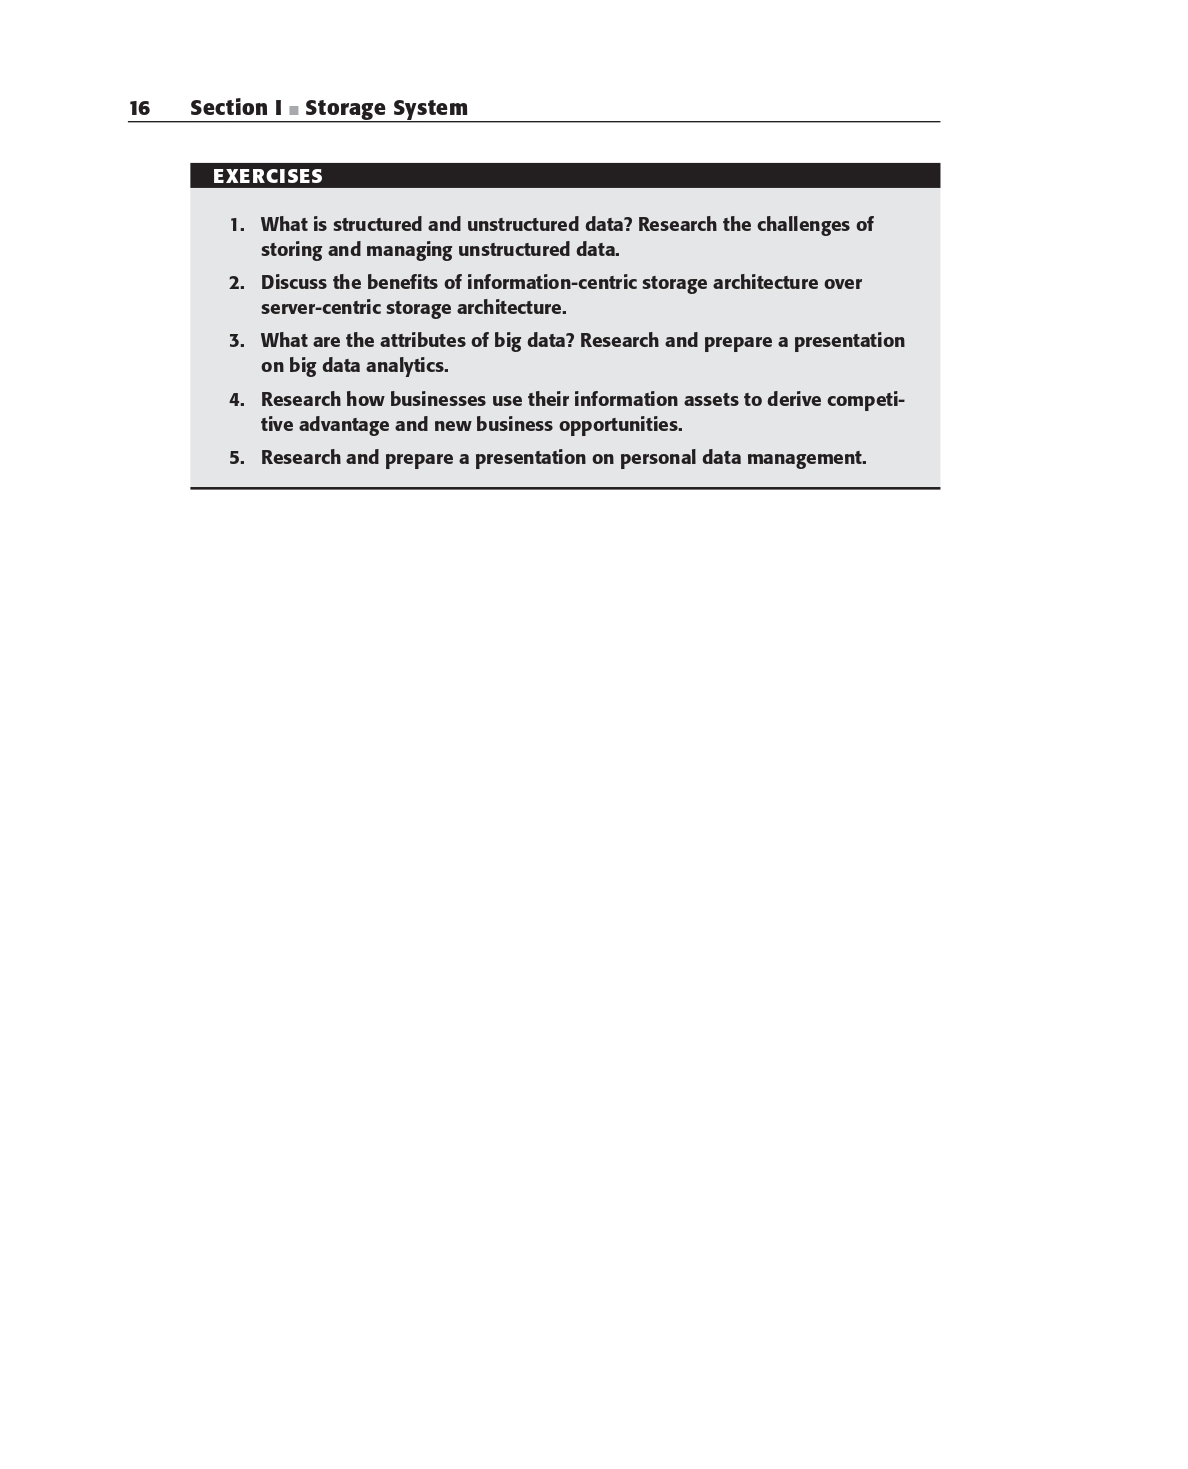Paragraph: (240, 199, 926, 482), (114, 87, 479, 122), (184, 149, 350, 187)
